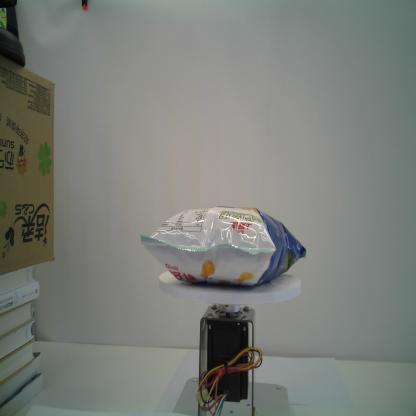Puffed Food: (139, 204, 307, 288)
